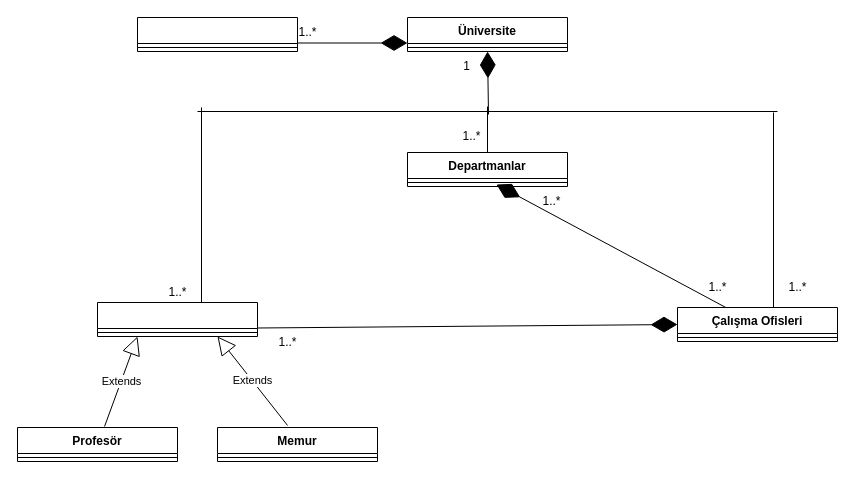
Some shapes in this 855 by 479 pixel diagram are drawn without their labels. The centre of each missing label's shape, as x and y in pixels:
"Sınıflar" belongs at [217,34].
"Çalışanlar" belongs at [177,319].
